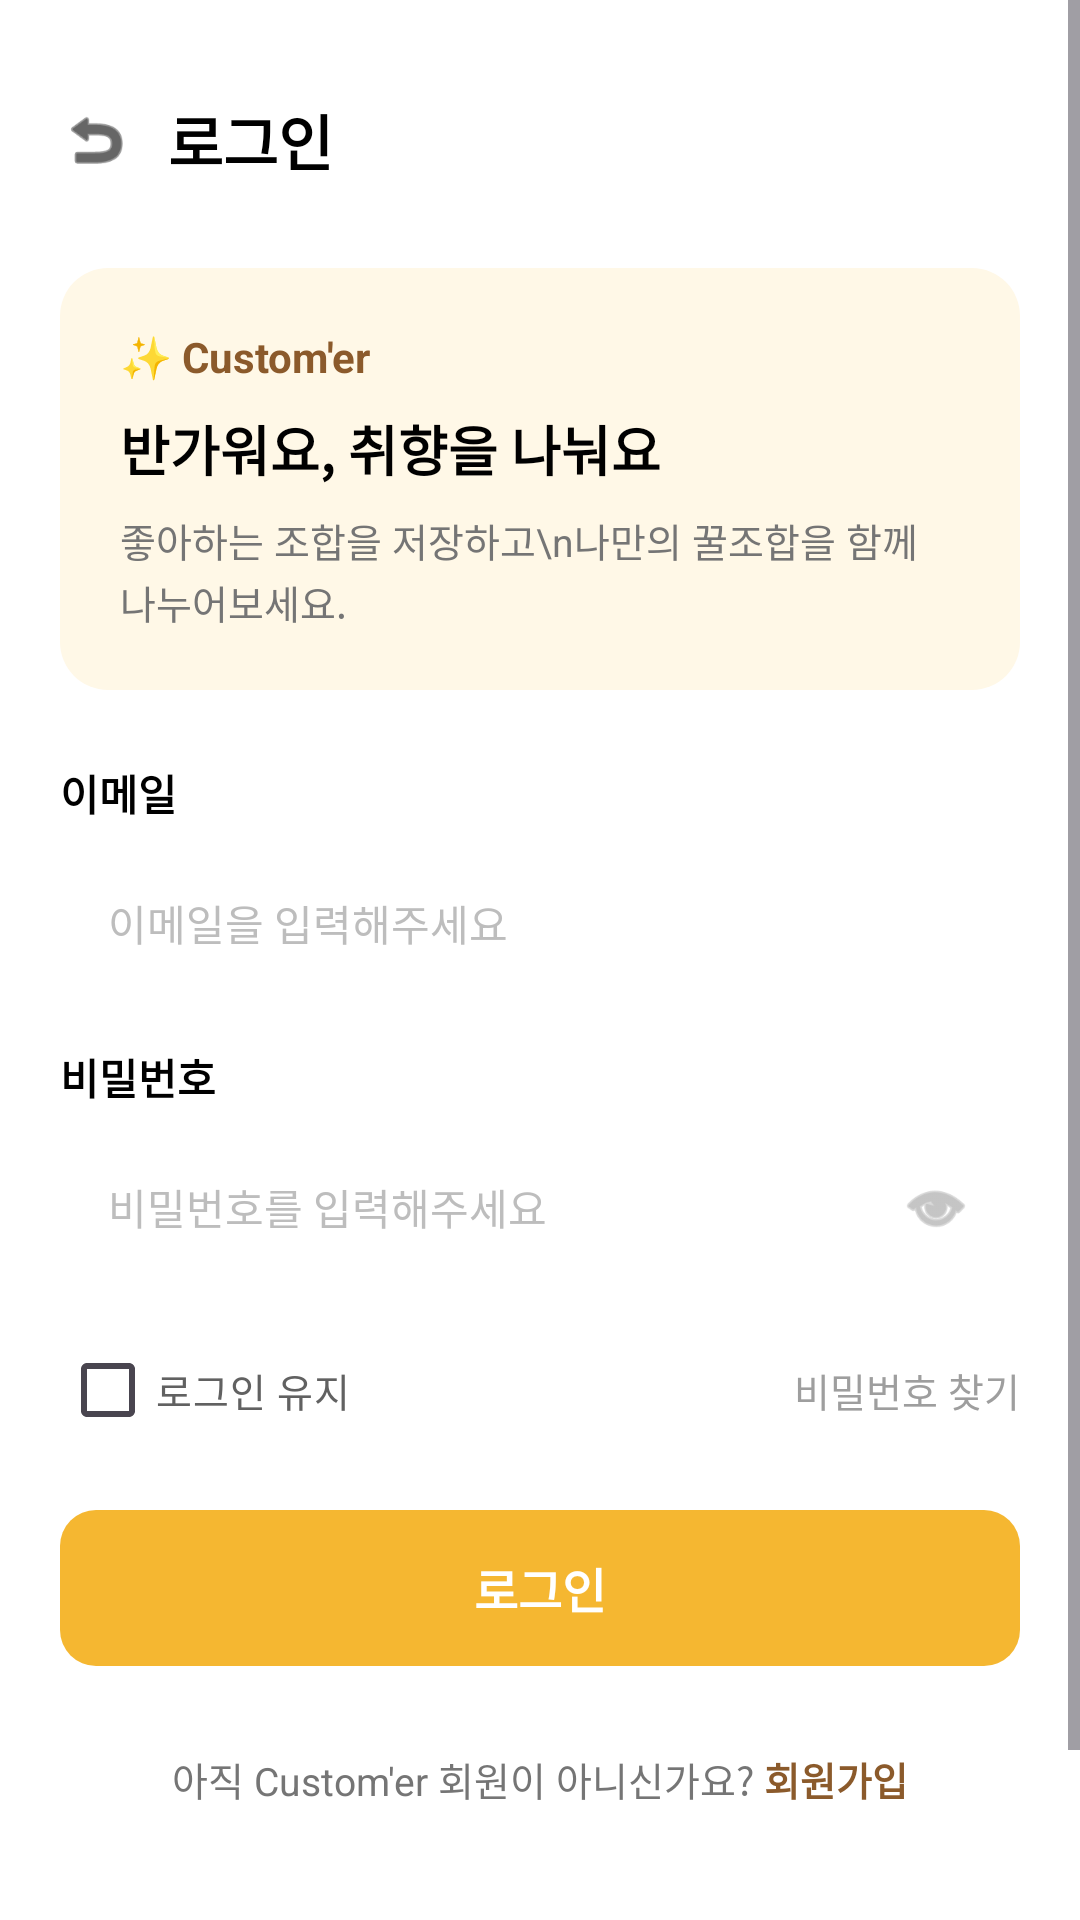

Icon click points for this 1080*1920 phone screenshot, format point (x, y):
revert: point (97, 140)
view: point (936, 1209)
